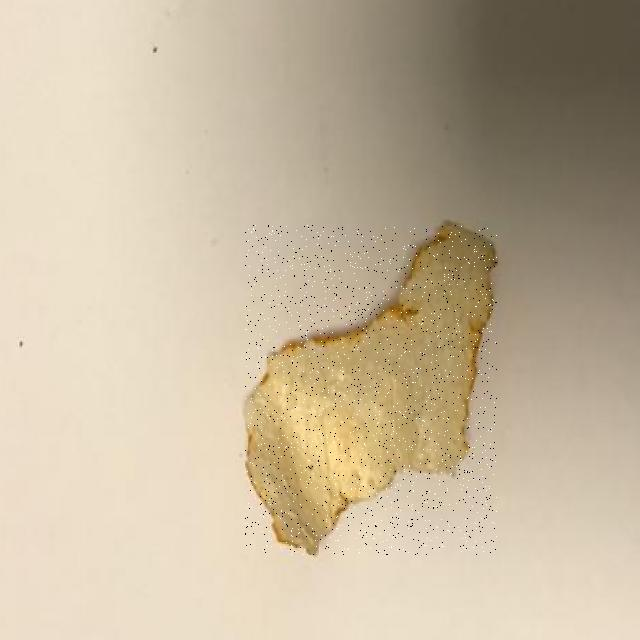biowaste: (246, 225, 497, 554)
